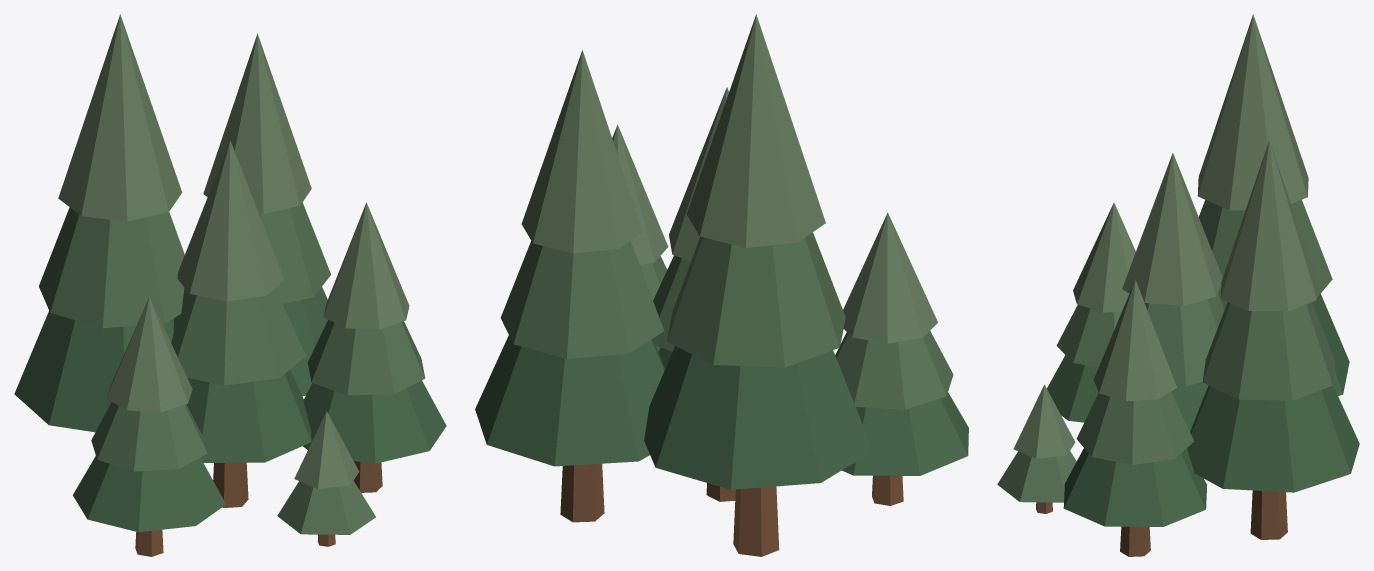
File: pine_trees.glb
3 views of the same model, side by side, from view 1: azimuth 30°, elevation 25°; view 2: azimuth 150°, elevation 25°; view 3: azimuth 270°, elevation 25° (orthographic). The views are drawn at different scales.
Parts seen in each view (by area): view 1: Pine trees Pine top, Pine trees Pine light, Pine trees Pine, Pine trees Bark; view 2: Pine trees Pine, Pine trees Pine light, Pine trees Pine top, Pine trees Bark; view 3: Pine trees Pine top, Pine trees Pine light, Pine trees Pine, Pine trees Bark.
Boxes of the visible parts, x1=… form: Pine trees Pine top: x1=58, y1=14, x2=409, y2=488; Pine trees Pine light: x1=39, y1=202, x2=425, y2=534; Pine trees Pine: x1=14, y1=287, x2=446, y2=532; Pine trees Bark: x1=135, y1=461, x2=382, y2=556; Pine trees Pine: x1=475, y1=335, x2=968, y2=489; Pine trees Pine light: x1=500, y1=232, x2=953, y2=409; Pine trees Pine top: x1=521, y1=14, x2=937, y2=343; Pine trees Bark: x1=560, y1=463, x2=903, y2=556; Pine trees Pine top: x1=1013, y1=14, x2=1317, y2=458; Pine trees Pine light: x1=997, y1=200, x2=1335, y2=502; Pine trees Pine: x1=1047, y1=293, x2=1359, y2=526; Pine trees Bark: x1=1036, y1=490, x2=1287, y2=556.
Size of the model in its own units: 1.48 by 1.86 by 1.36.
